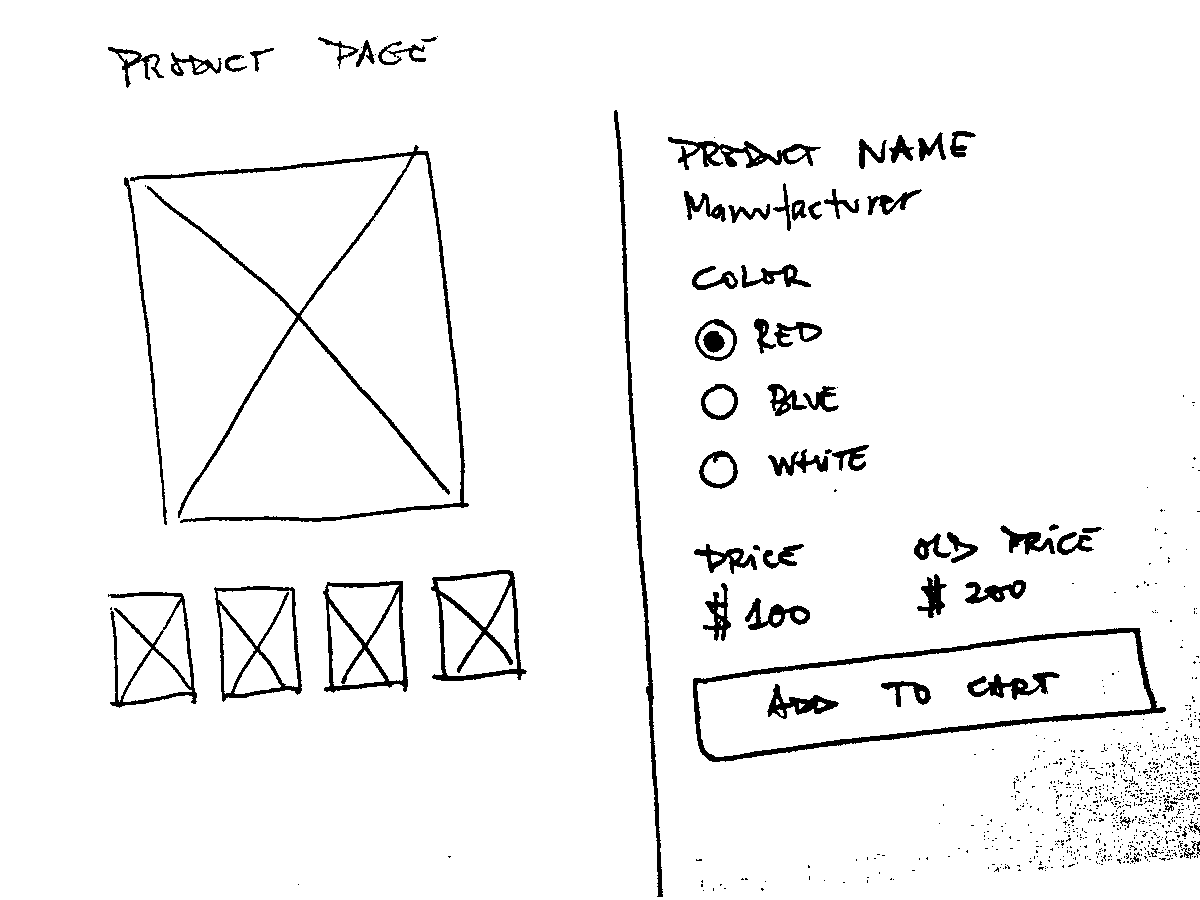Button: (694, 625, 1163, 766)
Image: (117, 148, 469, 528), (427, 566, 527, 688), (320, 575, 417, 700), (105, 587, 202, 710), (208, 582, 304, 704)
Radio Button: (696, 442, 871, 491), (696, 376, 839, 425), (686, 314, 824, 364)
